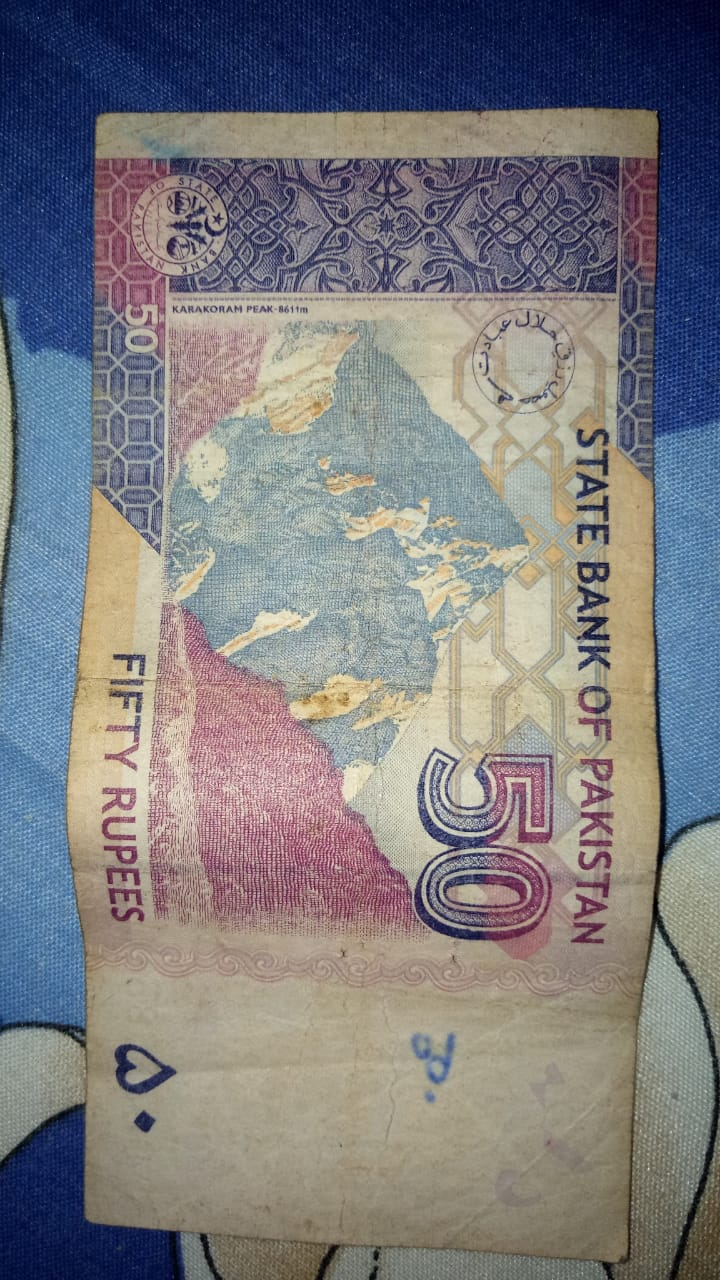50 rupee: (25, 87, 681, 1269)
